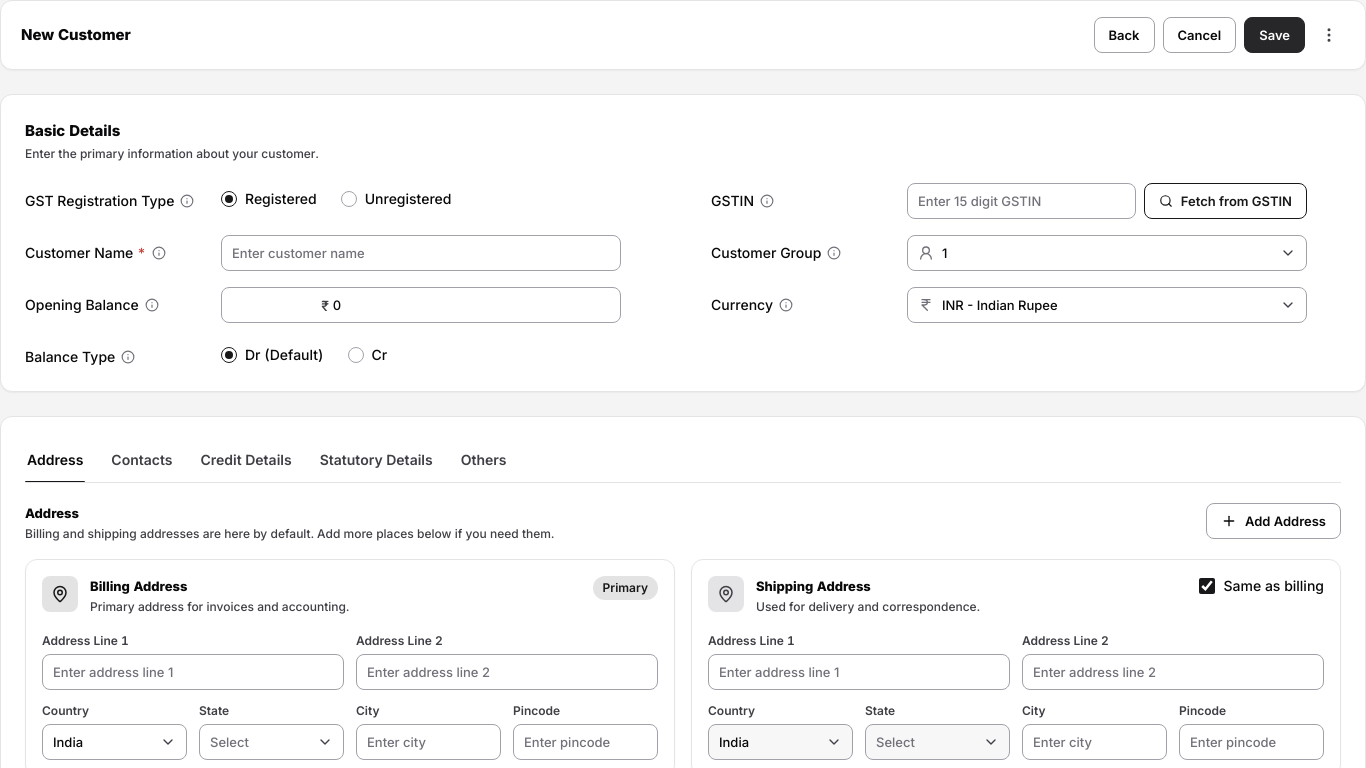
it: basic details › fills the state and PAN from the GSTIN when fetched
Type "29AABCU9603R1ZJ" into the field with placeholder "Enter 15 digit GSTIN". click: (1021, 201)
box: [907, 183, 1136, 219]
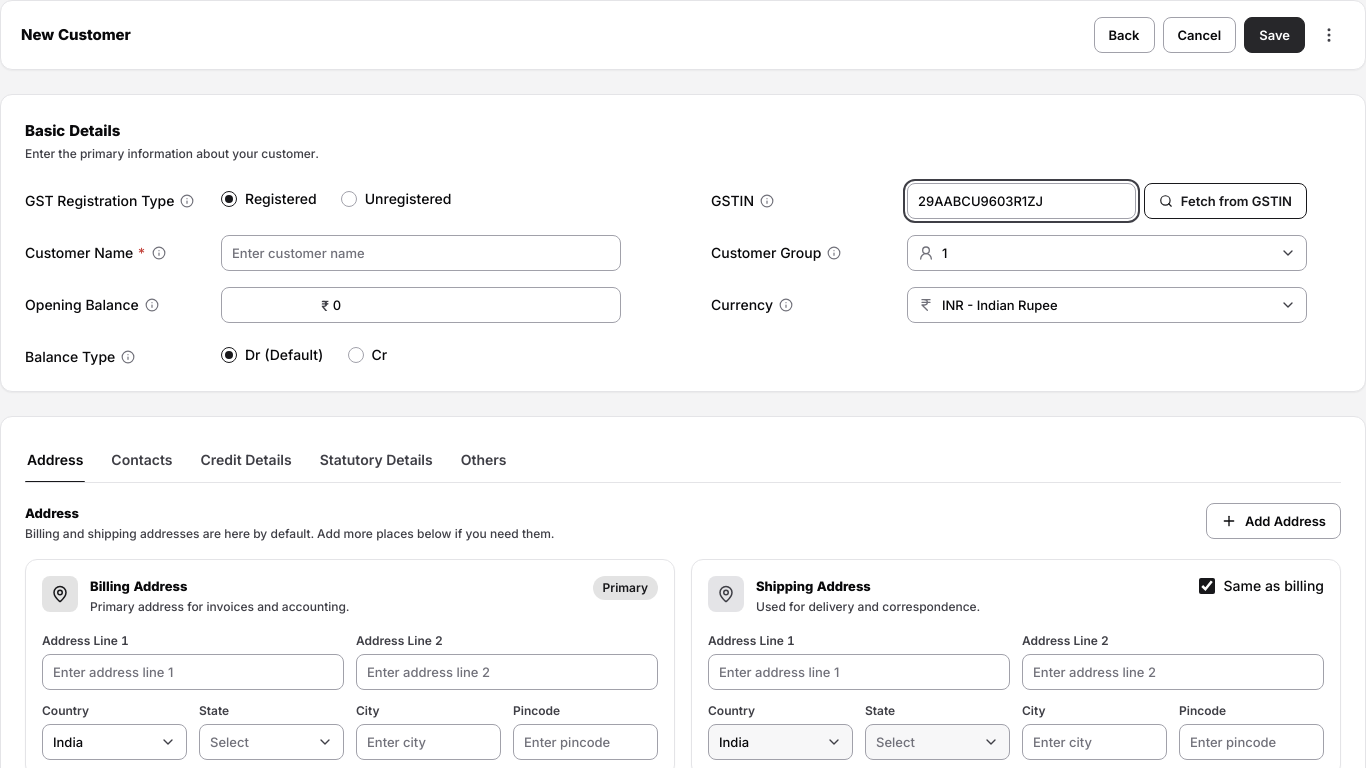
Click the button "Fetch from GSTIN". click: (1225, 201)
box: [1144, 183, 1307, 219]
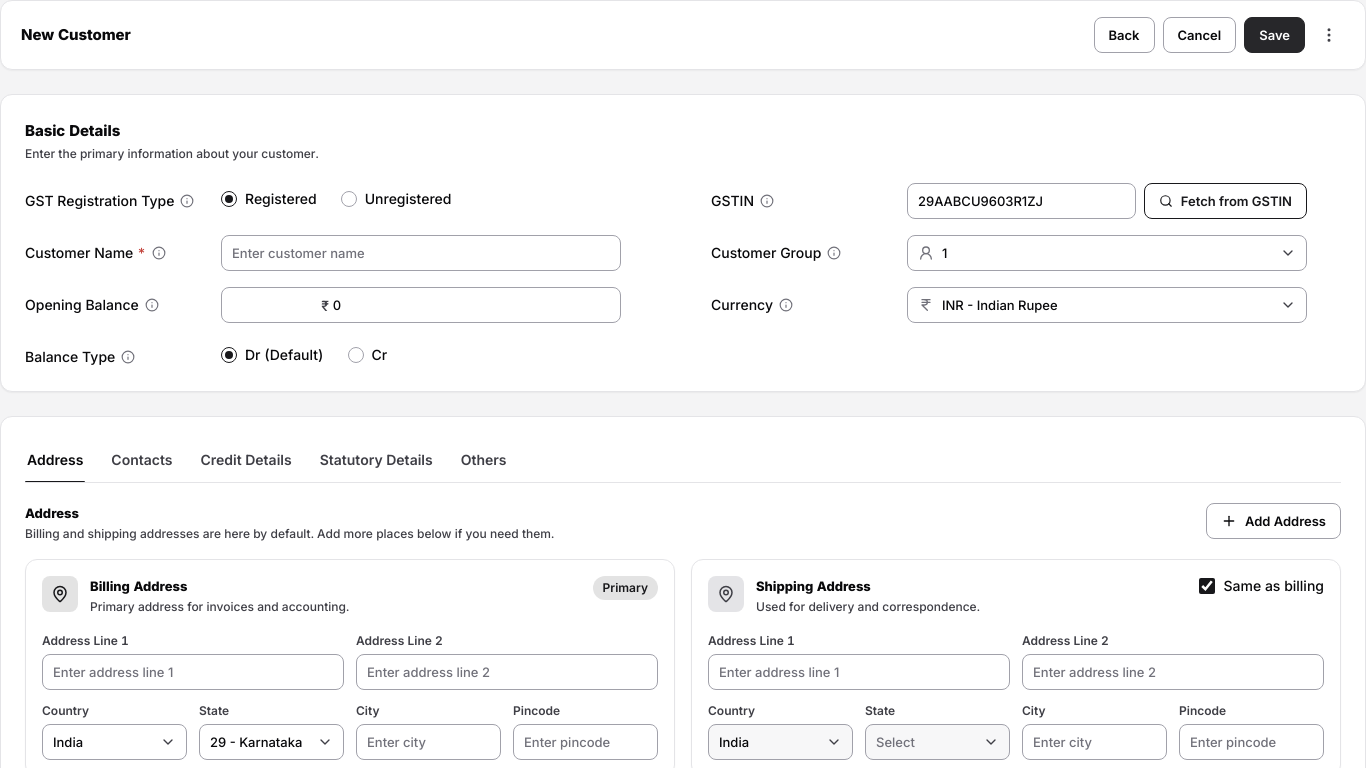
Click the tab "Statutory Details". click: (376, 462)
box: [318, 441, 435, 482]
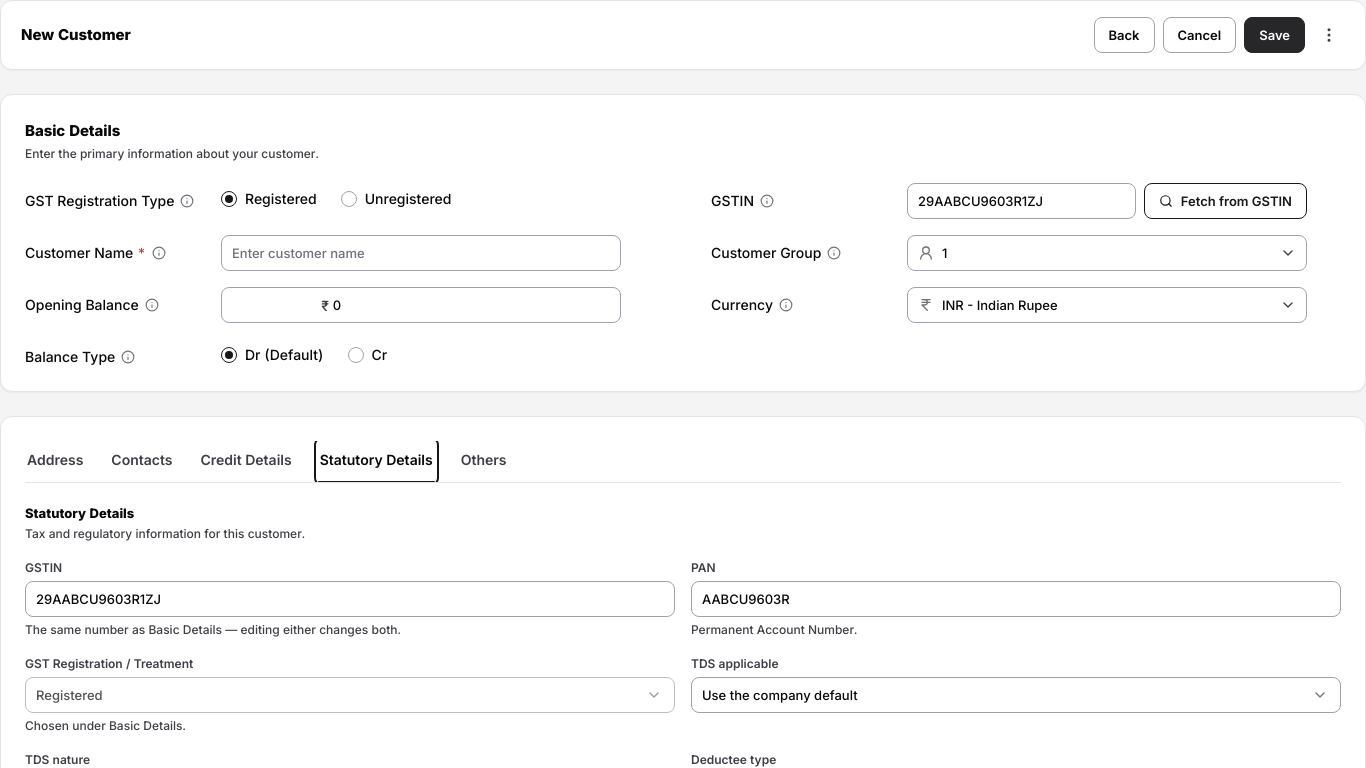
Expected: the field labelled "PAN" holds "AABCU9603R", [691, 581, 1341, 617]
